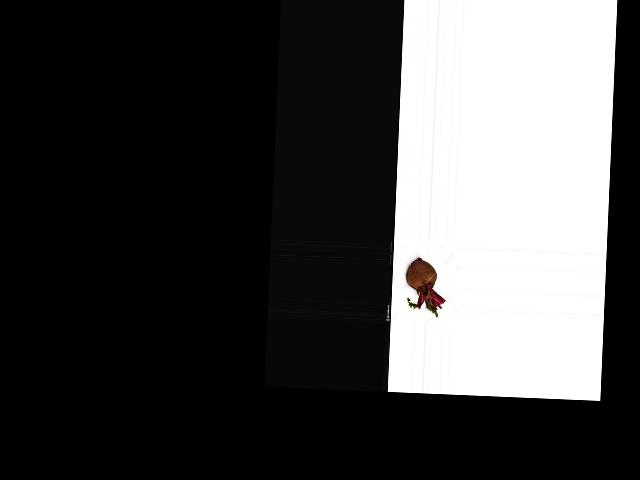beet: (404, 256, 447, 317)
